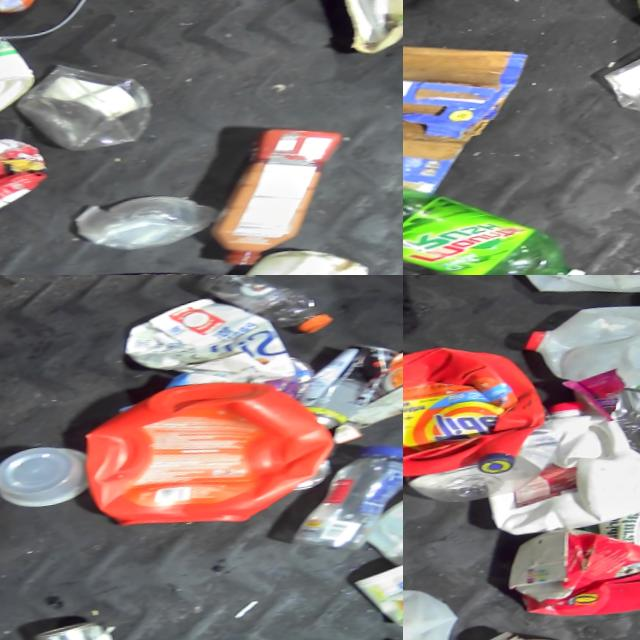can: (28, 616, 137, 640)
milk_jug: (502, 395, 640, 538), (535, 295, 640, 414), (246, 236, 403, 275), (365, 475, 403, 605), (517, 275, 640, 306)
non_white_jug: (79, 374, 338, 538), (403, 341, 558, 501), (502, 516, 640, 634)
plastic_bottle: (276, 437, 403, 553), (190, 275, 333, 345), (597, 378, 640, 474)
